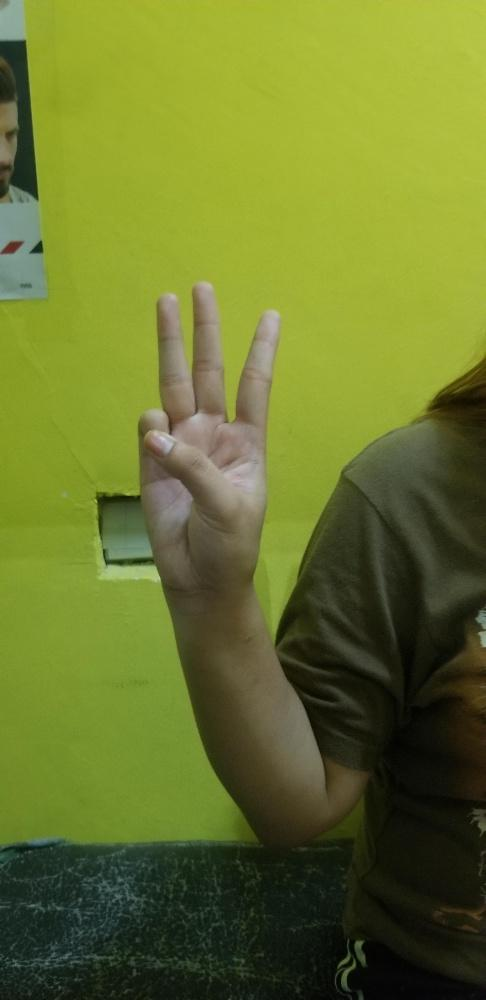w: (135, 278, 282, 584)
